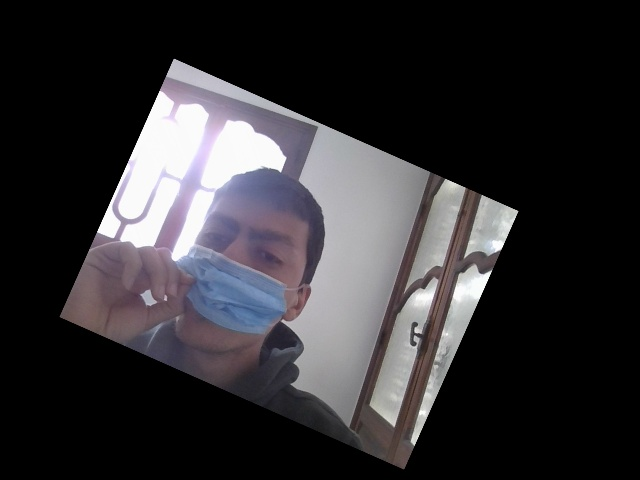mask_weared_incorrect: (177, 164, 316, 364)
